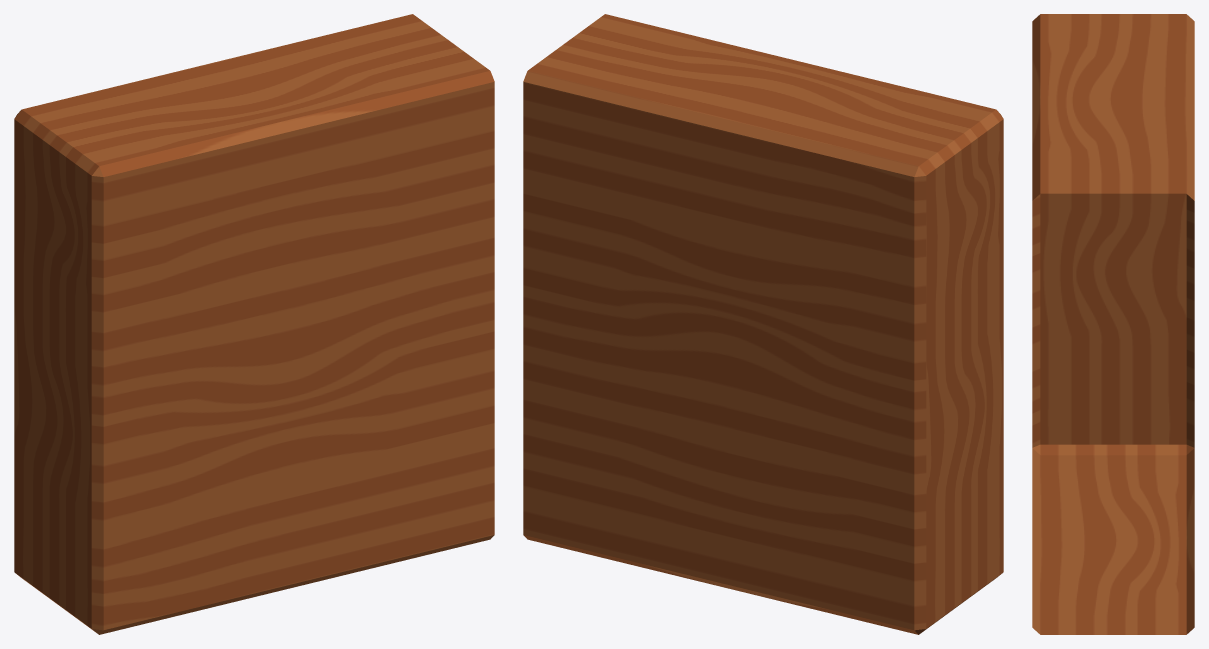
3 renders of one model, left to right at view 1: azimuth 30°, elevation 25°; view 2: azimuth 150°, elevation 25°; view 3: azimuth 270°, elevation 25°, orthographic. The views are drawn at different scales.
Parts seen in each view (by area): view 1: board_008; view 2: board_008; view 3: board_008.
Boxes of the visible parts, bbox=[...] form: board_008: bbox=[14, 14, 494, 634]; board_008: bbox=[523, 14, 1003, 634]; board_008: bbox=[1032, 14, 1194, 634].
Bounding box in the file's own units: 52.56 × 59.06 × 19.69.
1 material, 1 textured.
